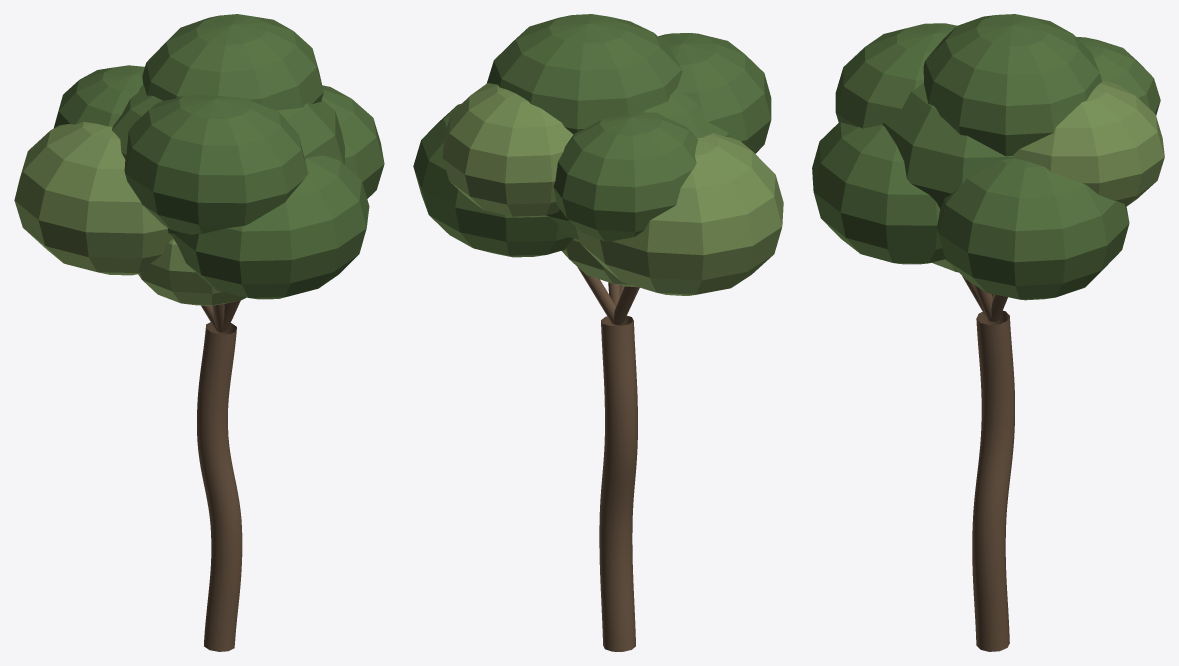
Rendered from tree-broadleaf.glb.
3 views of the same model, side by side, from view 1: azimuth 30°, elevation 25°; view 2: azimuth 150°, elevation 25°; view 3: azimuth 270°, elevation 25° (orthographic). The views are drawn at different scales.
Parts seen in each view (by area): view 1: canopy-leaf, canopy-leaf_light, trunk; view 2: canopy-leaf, canopy-leaf_light, trunk, branch-0; view 3: canopy-leaf, trunk, canopy-leaf_light.
Boxes of the visible parts, <box> form: canopy-leaf: <box>54,14,384,299</box>; canopy-leaf_light: <box>14,122,246,305</box>; trunk: <box>197,322,242,651</box>; canopy-leaf: <box>413,14,771,257</box>; canopy-leaf_light: <box>442,83,783,295</box>; trunk: <box>599,315,637,651</box>; branch-0: <box>577,267,615,324</box>; canopy-leaf: <box>812,14,1160,300</box>; trunk: <box>972,310,1014,651</box>; canopy-leaf_light: <box>932,80,1164,272</box>.
Size of the model in its own units: 3.16 by 5.38 by 2.73.
